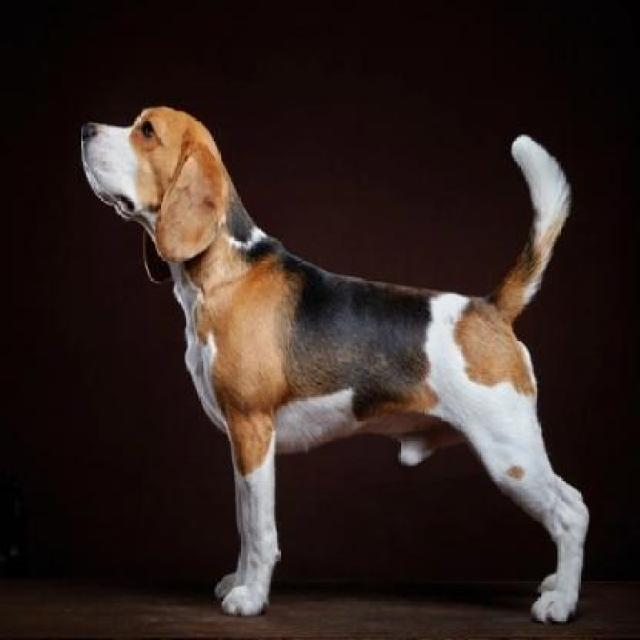animals: (63, 83, 640, 632)
